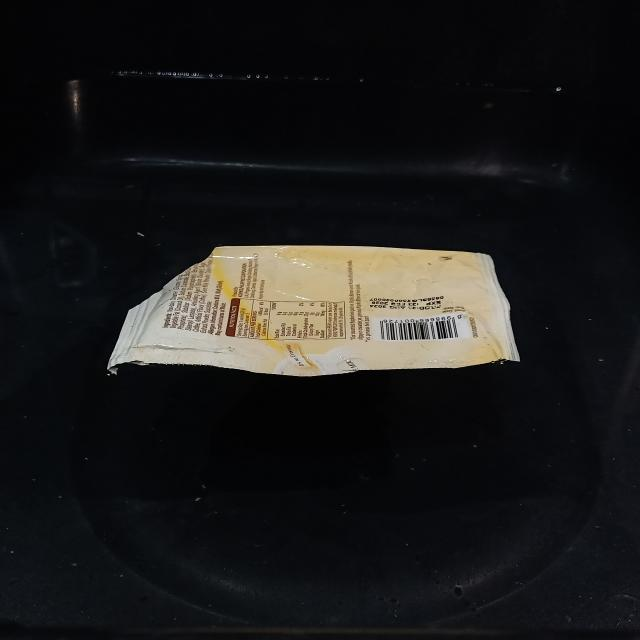Plastic Wrapper: (108, 245, 519, 376)
